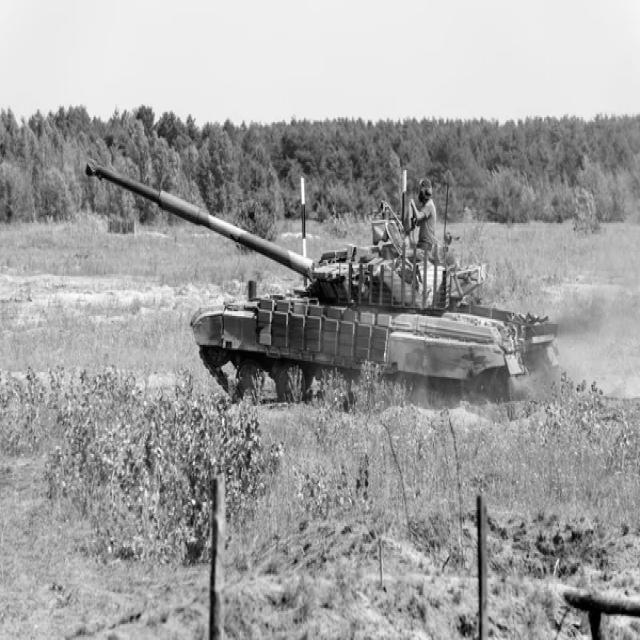Tank: (85, 149, 570, 411)
